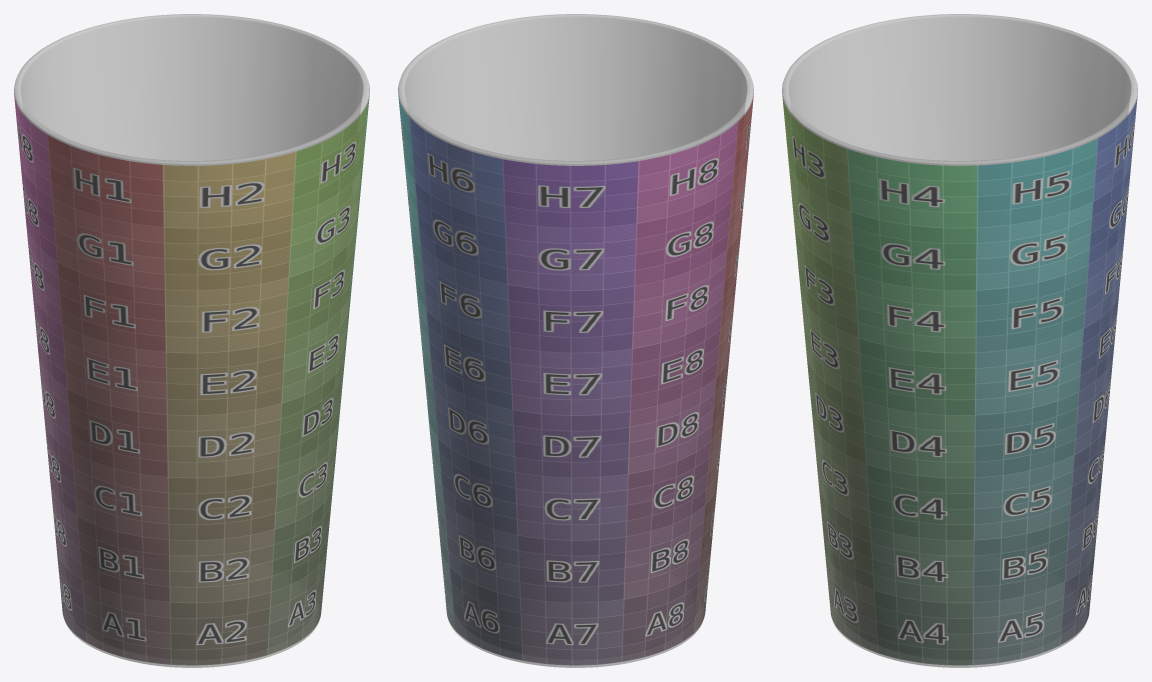
The model's file is Goblet.glb.
3 views of the same model, side by side, from view 1: azimuth 30°, elevation 25°; view 2: azimuth 150°, elevation 25°; view 3: azimuth 270°, elevation 25° (orthographic).
Visible parts, largest first — view 1: Cylinder; view 2: Cylinder; view 3: Cylinder.
Part boxes in pixels (bbox=[...]): Cylinder: bbox=[14, 14, 369, 667]; Cylinder: bbox=[398, 14, 753, 667]; Cylinder: bbox=[782, 14, 1137, 667].
Bounding box in the file's own units: 0.0714 × 0.1166 × 0.0714.
Materials: 2 (1 with a texture image).
